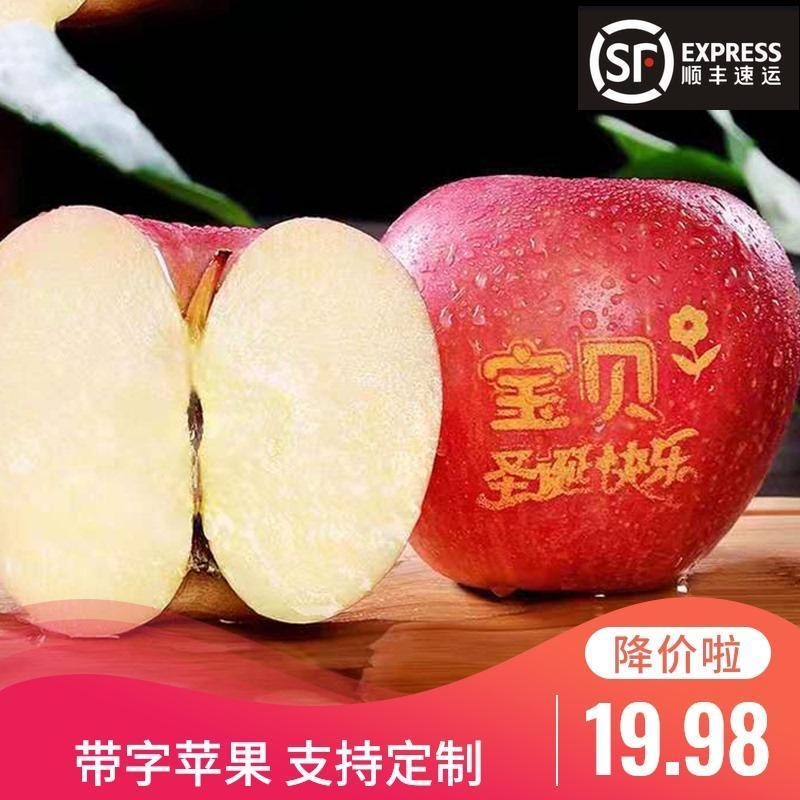apple: (3, 203, 440, 639), (351, 176, 799, 591)
